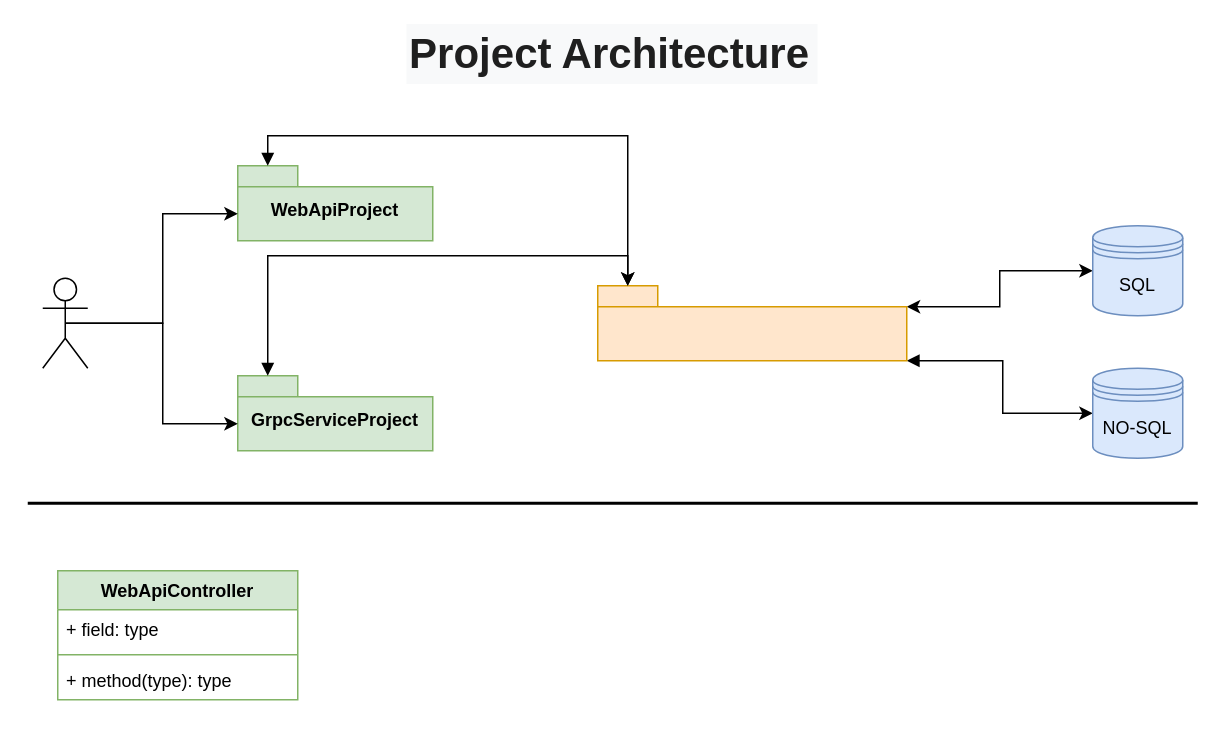
This 1224x729 diagram has some shape labels left out. Here are the shapes that lost their labels. From the top down, the centre of each, then its label:
pixel 64 322: User
pixel 751 322: DataAccessLibrary
